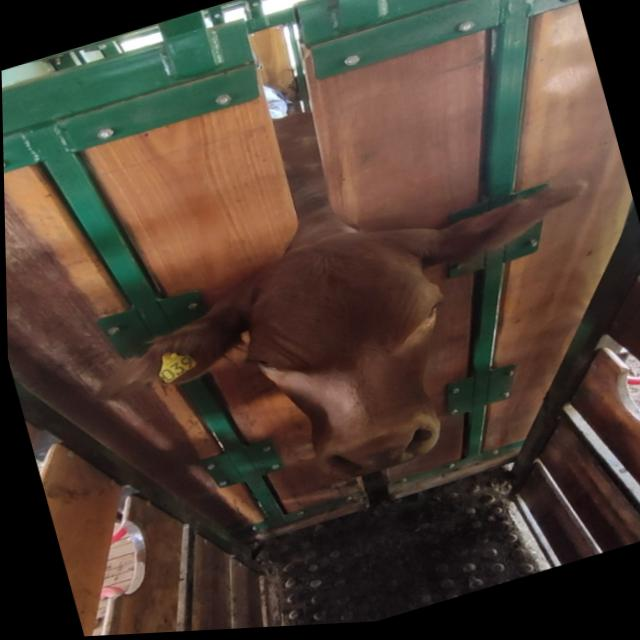cowFace: (219, 215, 480, 503)
